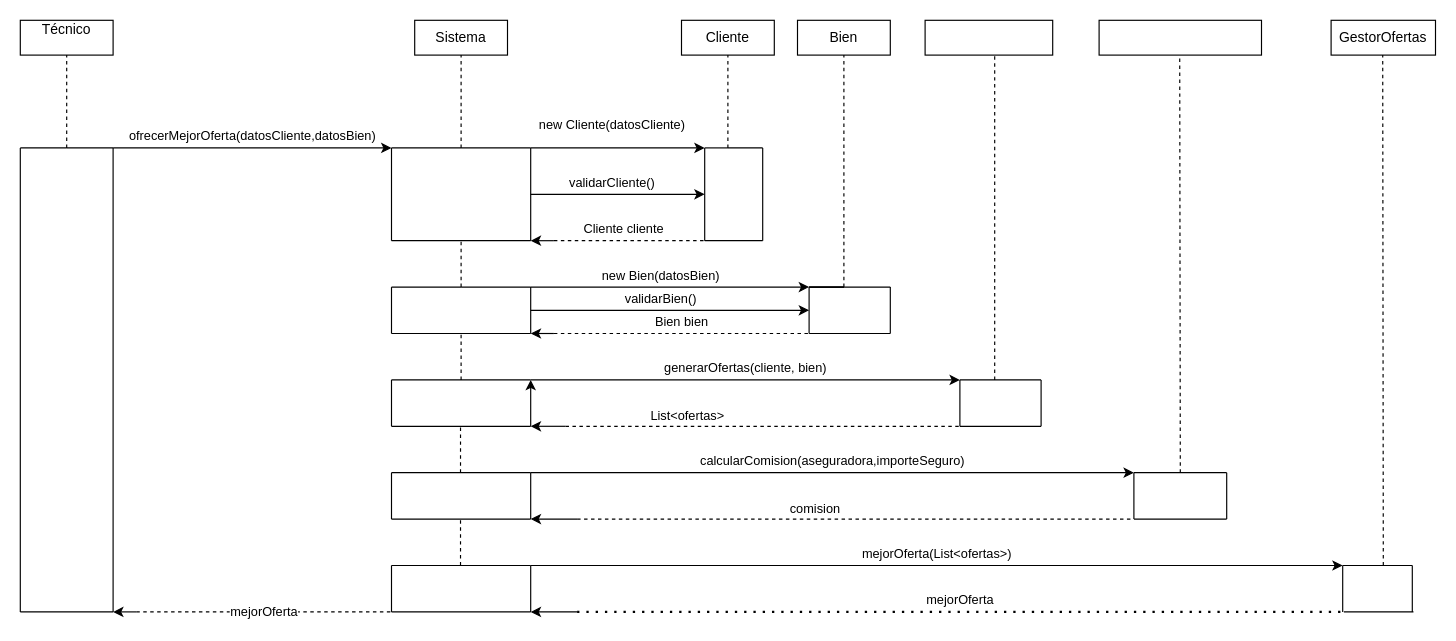
Image size: 1456x641. Some labels were removed from this diagram. Each missing label, with the box of its shape:
CalculadoraComisiones: (1098, 19, 1262, 55)
CalculadoraOfertas: (924, 19, 1053, 55)
